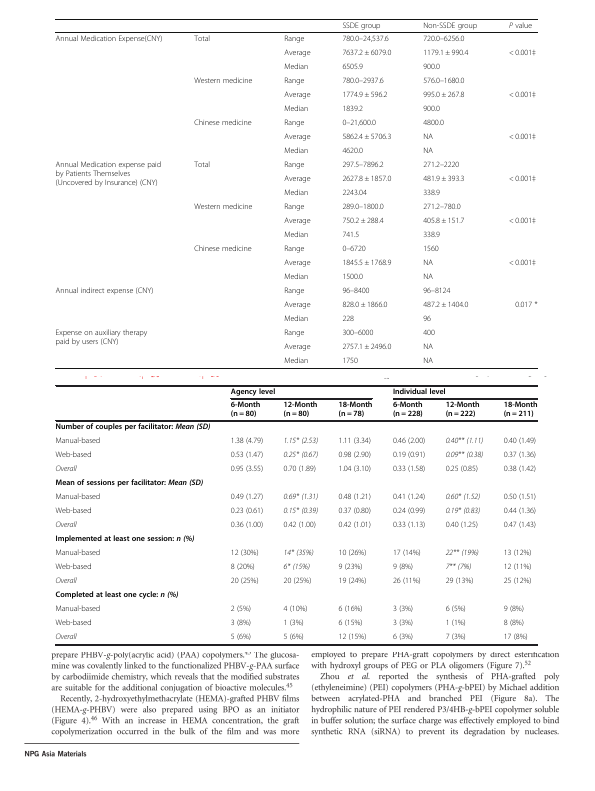borderless: (54, 17, 538, 368), (54, 384, 537, 644)
cell: (55, 160, 162, 188), (55, 328, 148, 347), (55, 423, 211, 433), (55, 479, 204, 489), (55, 535, 195, 545), (55, 591, 179, 601), (55, 34, 163, 44), (55, 286, 154, 296), (283, 401, 318, 420), (338, 401, 373, 420), (445, 401, 480, 420), (503, 401, 538, 420), (392, 401, 424, 420), (193, 76, 253, 86), (193, 202, 253, 212), (193, 118, 252, 128), (193, 244, 252, 254), (230, 401, 261, 420), (341, 48, 392, 58), (341, 132, 392, 142), (341, 174, 392, 184), (341, 258, 392, 268), (341, 342, 392, 352), (422, 21, 478, 30), (392, 388, 447, 397), (341, 34, 390, 44), (422, 48, 469, 58), (341, 90, 388, 100), (341, 300, 388, 310), (422, 300, 469, 310), (341, 216, 385, 226), (422, 34, 465, 44), (341, 76, 384, 86), (422, 76, 465, 86), (422, 90, 465, 100), (341, 160, 384, 170), (422, 174, 465, 184), (341, 202, 384, 212), (422, 216, 465, 226), (230, 388, 276, 397), (55, 437, 101, 446), (55, 493, 101, 502), (55, 549, 101, 558), (55, 605, 101, 614), (422, 202, 461, 212), (422, 160, 460, 170), (341, 21, 381, 30), (341, 118, 377, 128), (445, 437, 484, 446), (445, 451, 484, 460), (55, 451, 92, 460), (55, 507, 92, 516), (55, 563, 92, 572), (55, 619, 92, 628), (341, 328, 374, 338), (283, 437, 319, 446), (283, 451, 319, 460), (283, 493, 319, 502), (445, 493, 481, 502), (283, 507, 319, 516), (445, 507, 481, 516), (445, 549, 480, 558), (230, 437, 264, 446), (338, 437, 372, 446), (392, 437, 426, 446), (503, 437, 537, 446), (230, 451, 264, 460), (338, 451, 372, 460), (392, 451, 426, 460), (503, 451, 537, 460), (230, 465, 264, 474), (283, 465, 317, 474), (338, 465, 372, 474), (392, 465, 426, 474), (445, 465, 479, 474), (503, 465, 537, 474), (230, 493, 264, 502), (338, 493, 372, 502), (392, 493, 426, 502), (503, 493, 537, 502), (230, 507, 264, 516), (338, 507, 372, 516), (392, 507, 426, 516), (503, 507, 537, 516), (230, 521, 264, 530), (283, 521, 317, 530), (338, 521, 372, 530), (392, 521, 426, 530), (445, 521, 479, 530), (503, 521, 537, 530), (508, 48, 537, 58), (508, 90, 537, 100), (508, 132, 537, 142), (508, 174, 537, 184), (508, 216, 537, 226), (508, 258, 537, 268), (341, 286, 370, 296), (422, 286, 451, 296), (283, 48, 311, 58), (283, 90, 311, 100), (283, 132, 311, 142), (283, 174, 311, 184), (283, 216, 311, 226), (283, 258, 311, 268), (283, 300, 311, 310), (283, 342, 311, 352), (283, 549, 314, 558), (392, 549, 422, 558), (392, 577, 422, 586), (341, 188, 368, 198), (230, 549, 259, 558), (338, 549, 367, 558), (503, 549, 532, 558), (503, 563, 532, 572), (230, 577, 259, 586), (283, 577, 312, 586), (338, 577, 367, 586), (445, 577, 474, 586), (503, 577, 532, 586), (338, 633, 367, 642), (283, 62, 309, 72), (283, 104, 309, 114), (283, 146, 309, 156), (283, 188, 309, 198), (283, 230, 309, 240), (341, 244, 367, 254), (283, 272, 309, 282), (283, 314, 309, 324), (283, 356, 309, 366), (283, 563, 311, 572), (445, 563, 472, 572), (514, 300, 538, 310), (230, 563, 256, 572), (503, 633, 529, 642), (341, 62, 364, 72), (341, 104, 364, 114), (422, 118, 445, 128), (341, 146, 364, 156), (341, 272, 364, 282), (338, 563, 363, 572), (283, 605, 308, 614), (338, 605, 363, 614), (338, 619, 363, 628), (508, 21, 533, 30), (283, 34, 305, 44), (283, 76, 305, 86), (283, 118, 305, 128), (283, 160, 305, 170), (283, 202, 305, 212), (283, 244, 305, 254), (283, 286, 305, 296), (283, 328, 305, 338), (55, 465, 78, 474), (55, 521, 78, 530), (55, 577, 78, 586), (55, 633, 78, 642), (392, 563, 414, 572), (230, 605, 252, 614), (392, 605, 414, 614), (445, 605, 467, 614), (503, 605, 525, 614), (230, 619, 252, 628), (283, 619, 305, 628), (392, 619, 414, 628), (445, 619, 467, 628), (503, 619, 525, 628), (230, 633, 252, 642), (283, 633, 305, 642), (392, 633, 414, 642), (445, 633, 467, 642), (422, 62, 441, 72), (422, 104, 441, 114), (422, 188, 441, 198), (341, 230, 360, 240), (422, 230, 441, 240), (193, 34, 211, 44), (193, 160, 211, 170), (422, 244, 440, 254), (341, 356, 359, 366), (341, 314, 355, 324), (422, 328, 436, 338), (422, 132, 434, 142), (422, 146, 434, 156), (422, 258, 434, 268), (422, 272, 434, 282), (422, 342, 434, 352), (422, 356, 434, 366), (422, 314, 432, 324)
